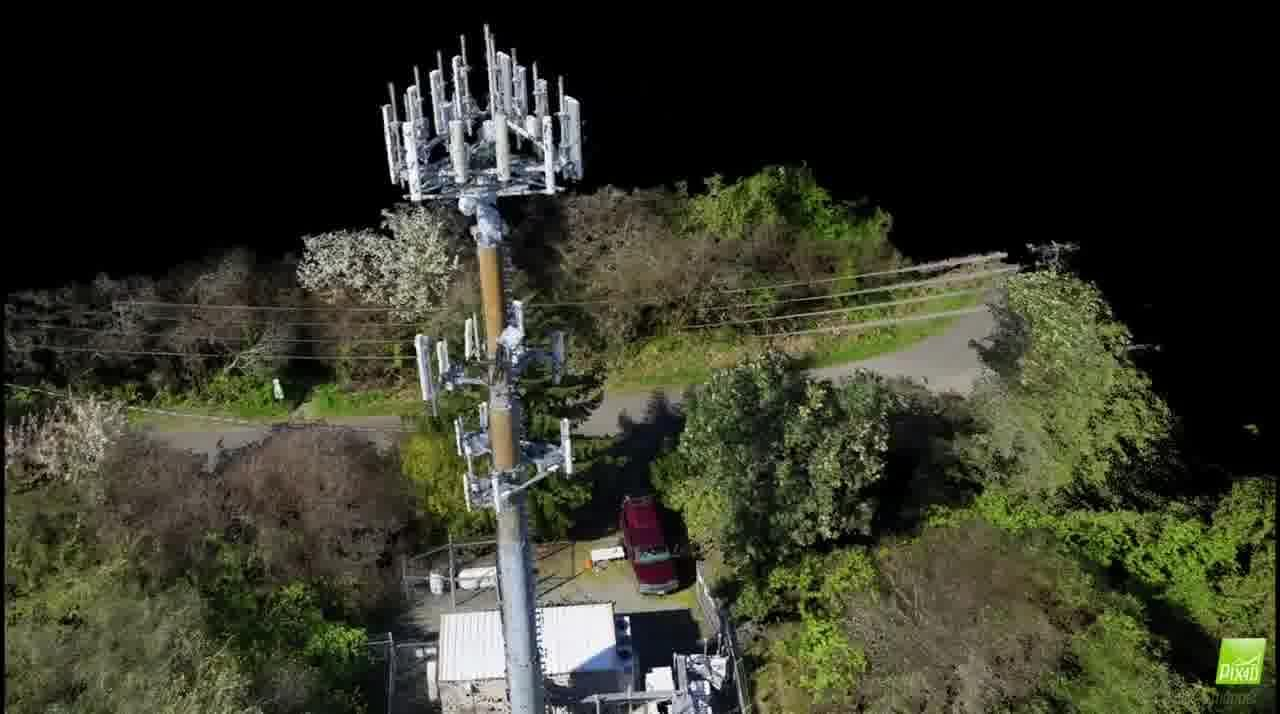antenna: (402, 329, 437, 418), (397, 115, 423, 217), (378, 103, 408, 191), (534, 114, 563, 198), (564, 92, 586, 184), (486, 110, 515, 179), (448, 406, 474, 463), (552, 330, 571, 402), (444, 118, 466, 180), (461, 467, 481, 519), (433, 341, 454, 383), (562, 422, 576, 479), (511, 298, 525, 346), (464, 316, 478, 358), (481, 399, 489, 453)
